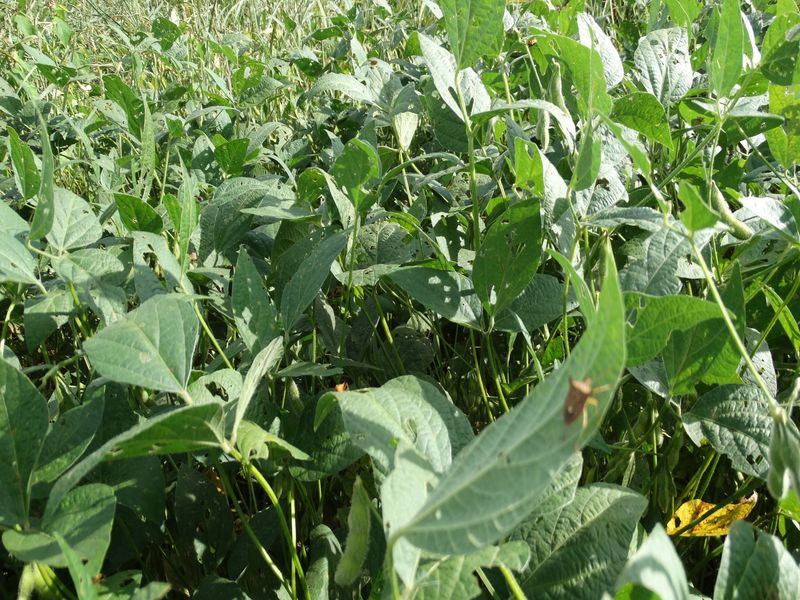Euschistus_heros_adulto: (553, 371, 611, 438)
